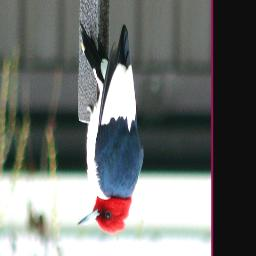Woodpecker: (77, 16, 145, 241)
